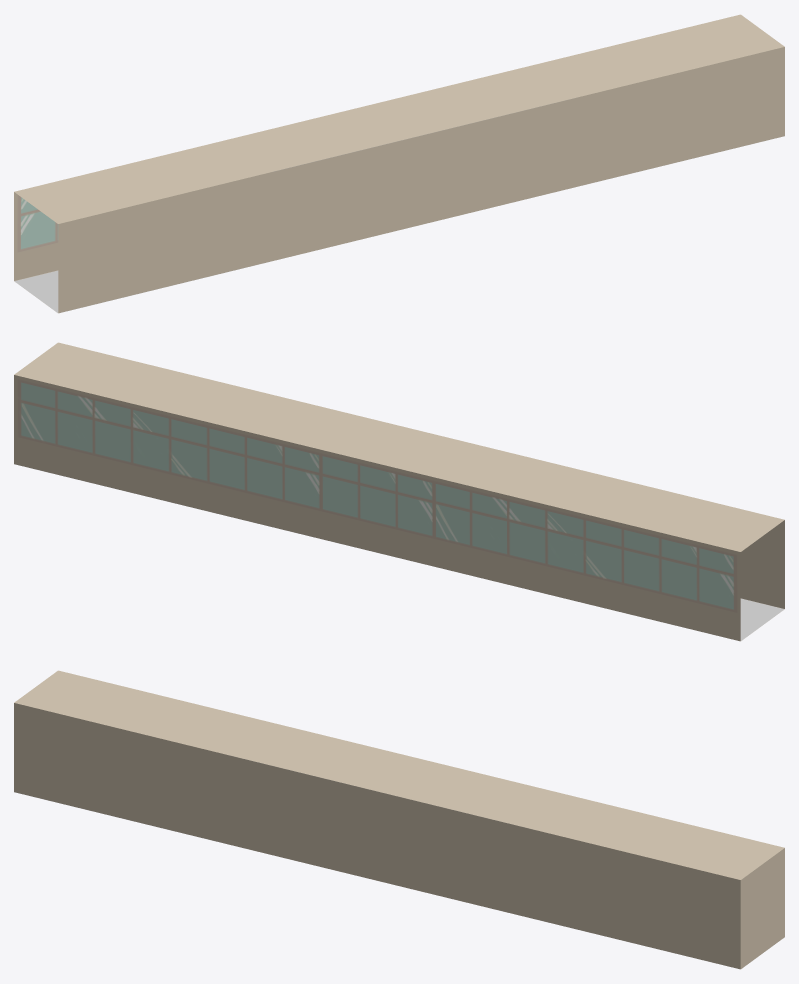
The model's file is ongakushitu_rouka1.fbx.
The picture shows the model from 3 angles, top to bottom: view 1: azimuth 30°, elevation 25°; view 2: azimuth 150°, elevation 25°; view 3: azimuth 330°, elevation 25°; orthographic projection.
Parts seen in each view (by area): view 1: pCube2; view 2: pCube2; view 3: pCube2.
Part boxes in pixels (x1=…): pCube2: x1=14, y1=14, x2=784, y2=313; pCube2: x1=14, y1=342, x2=784, y2=641; pCube2: x1=14, y1=670, x2=784, y2=969.
Size of the model in its own units: 57.9 by 6.8 by 6.1.
